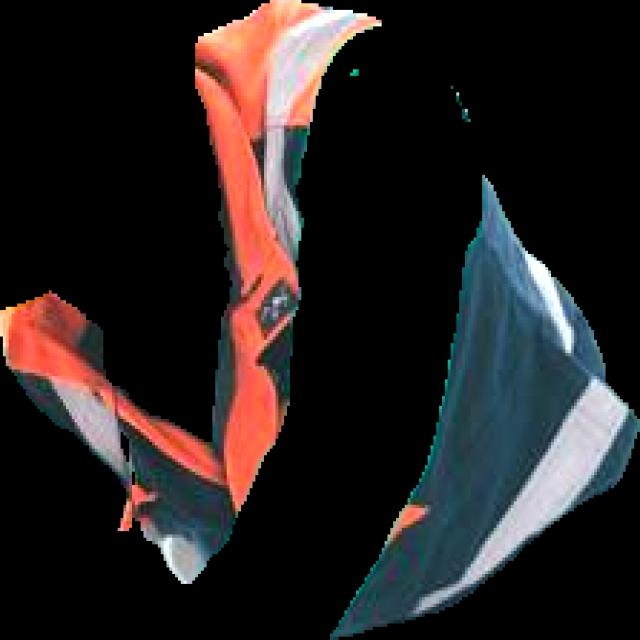Colete: (0, 0, 381, 583)
